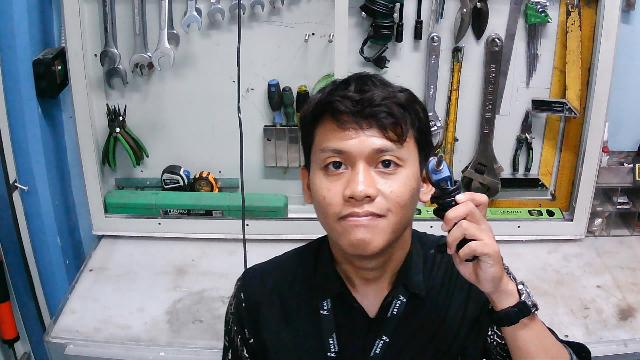solder_electrical: (423, 151, 480, 264)
